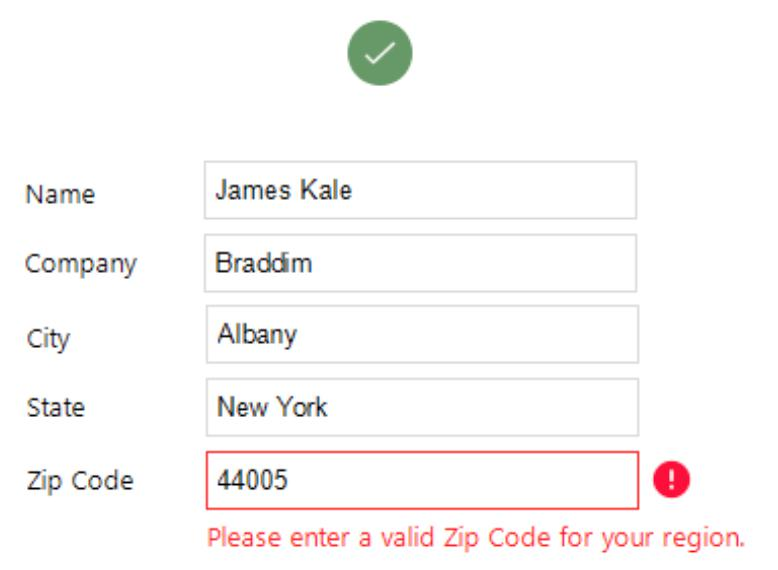error_field: (204, 450, 640, 512)
error_message: (202, 524, 749, 554)
